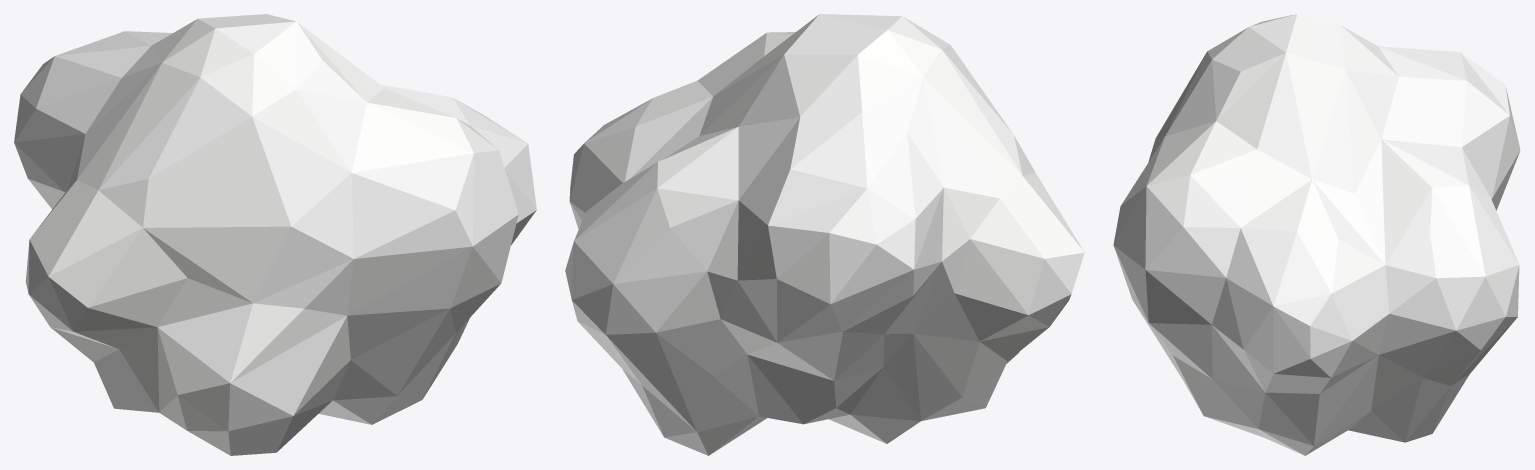
The model's file is oblako3.fbx.
The picture shows the model from 3 angles, left to right: view 1: azimuth 30°, elevation 25°; view 2: azimuth 150°, elevation 25°; view 3: azimuth 270°, elevation 25°; orthographic projection. The views are drawn at different scales.
Visible parts, largest first — view 1: Mball.002; view 2: Mball.002; view 3: Mball.002.
Part boxes in pixels (bbox=[...]): Mball.002: bbox=[14, 14, 536, 455]; Mball.002: bbox=[565, 14, 1084, 455]; Mball.002: bbox=[1113, 14, 1520, 455].
Size of the model in its own units: 1095 by 869 by 859.
